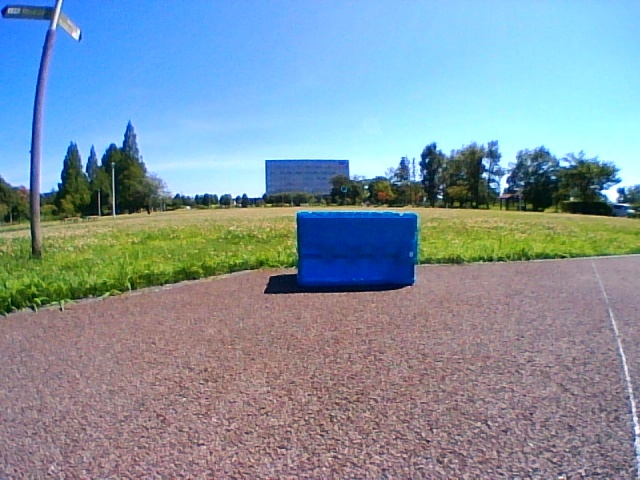blue_box: (298, 211, 417, 285)
